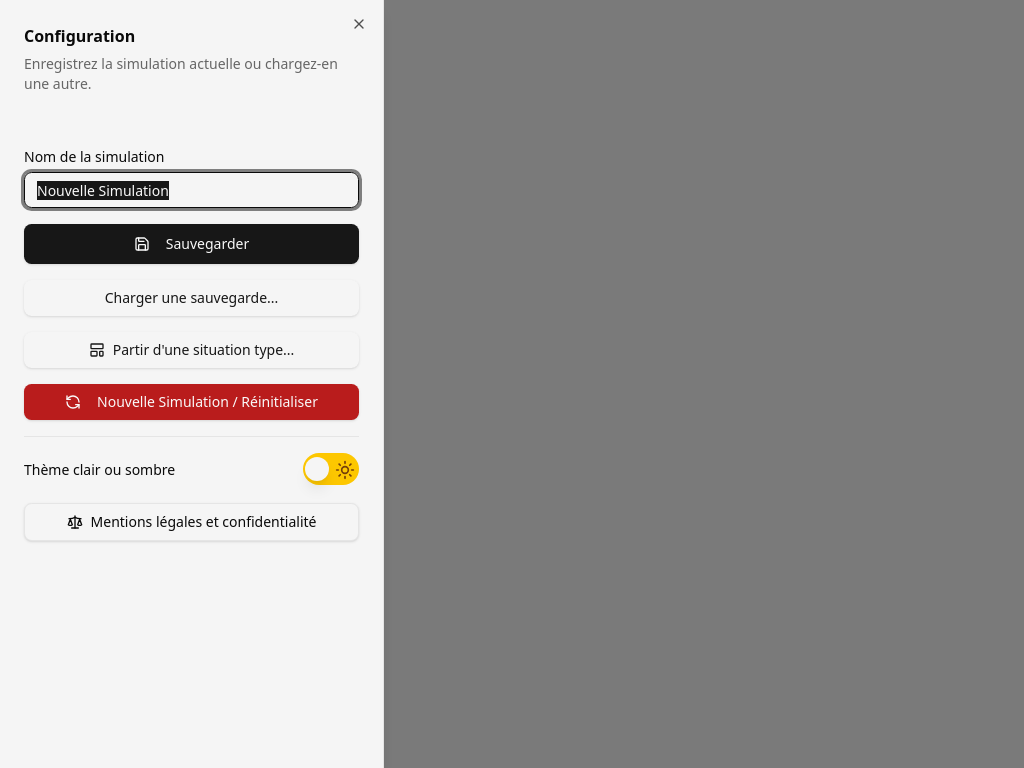
it: SettingsSheet, import de sauvegardes › détaille les doublons ignorés, les copies renommées, les sauvegardes écartées et les points à vérifier
The image size is (1024, 768).
What coordinates should you click on to do the following:
click the button "Charger une sauvegarde..."
I would click on:
 (192, 298)
Its box is [24,280,359,316].
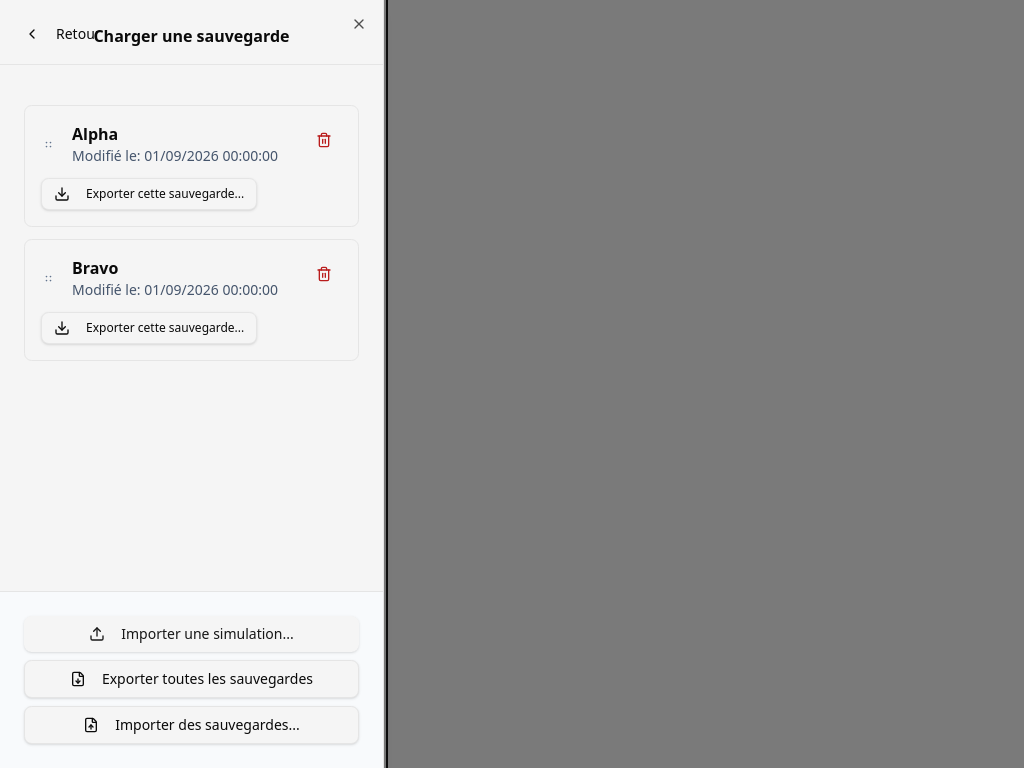
What coordinates should you click on to do the following:
click the button "Importer des sauvegardes..."
I would click on:
 (192, 725)
Its box is [24,706,359,744].
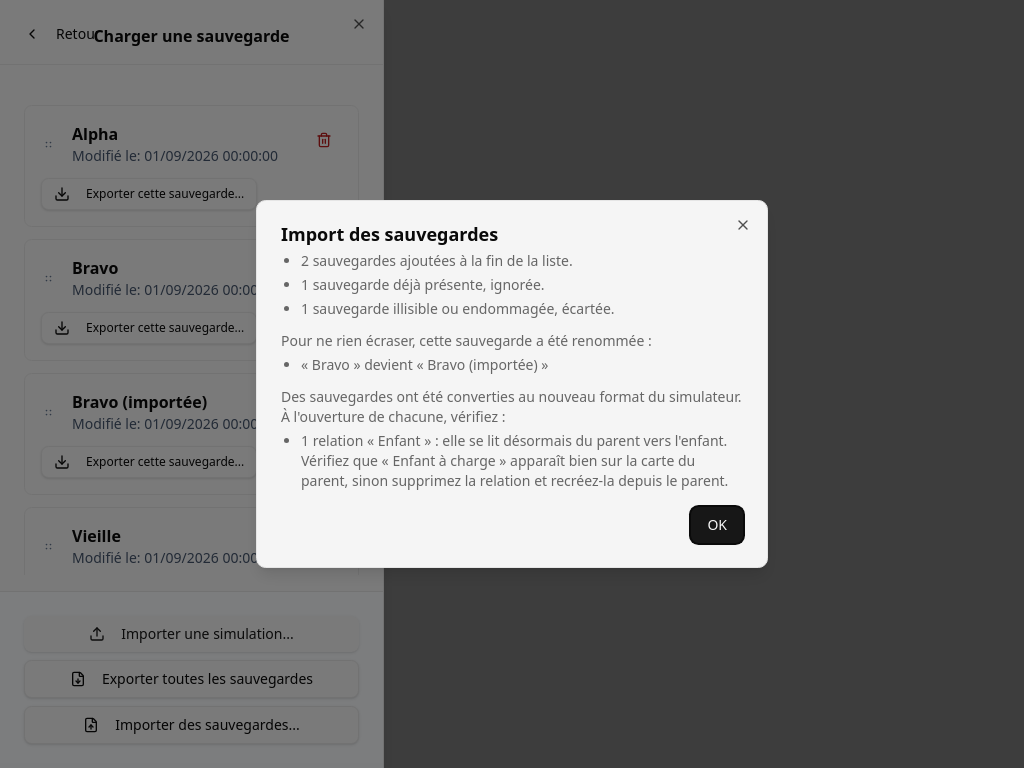
Expected: the dialog "Import des sauvegardes" shows "2 sauvegardes ajoutées", [301,251,573,270]
Expected: the dialog "Import des sauvegardes" shows "1 sauvegarde déjà présente, ignorée.", [301,275,545,294]
Expected: the dialog "Import des sauvegardes" shows "1 sauvegarde illisible ou endommagée, écartée.", [301,299,615,318]
